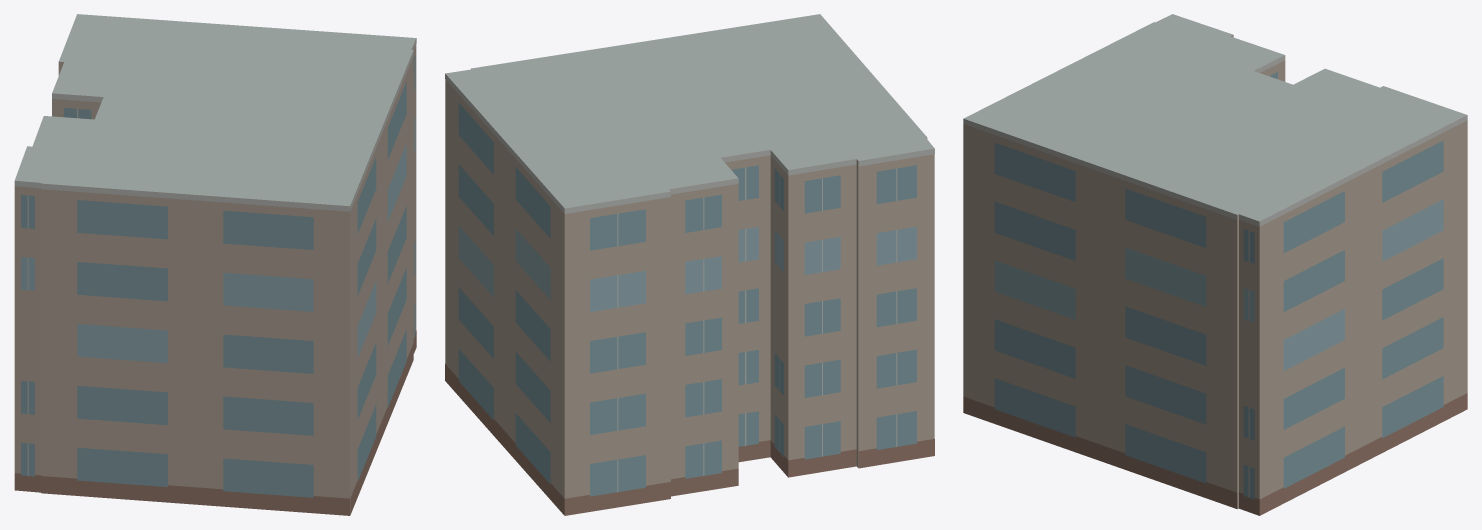
The model's file is survey-upis-32668492.glb.
3 views of the same model, side by side, from view 1: azimuth 30°, elevation 25°; view 2: azimuth 150°, elevation 25°; view 3: azimuth 270°, elevation 25° (orthographic). The views are drawn at different scales.
Parts seen in each view (by area): view 1: survey-upis-32668492.tmp; view 2: survey-upis-32668492.tmp; view 3: survey-upis-32668492.tmp.
Part boxes in pixels (x1=…): survey-upis-32668492.tmp: x1=14, y1=14, x2=416, y2=515; survey-upis-32668492.tmp: x1=445, y1=14, x2=934, y2=515; survey-upis-32668492.tmp: x1=963, y1=14, x2=1467, y2=515.
Size of the model in its own units: 20.75 by 13.71 by 21.29.
